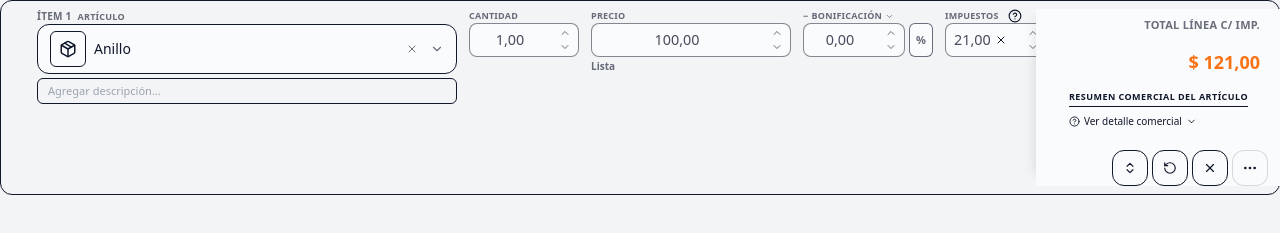
Test: T8 — Total línea c/imp · unitario final + mini desglose › T13 — Hechura unificada (subtotal + productos + servicios + IVA imputado)
Step 1. Click the button "Ver detalle comercial" → click(1133, 122), box [1069,115,1197,128]
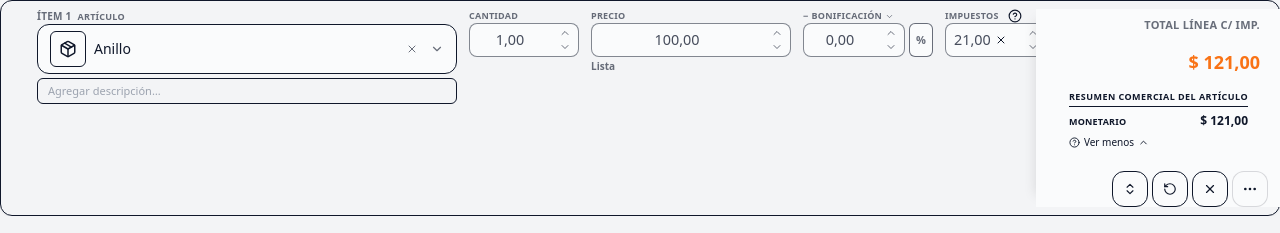
expect the text "MONETARIO" is shown: met, box [1069,115,1126,128]
